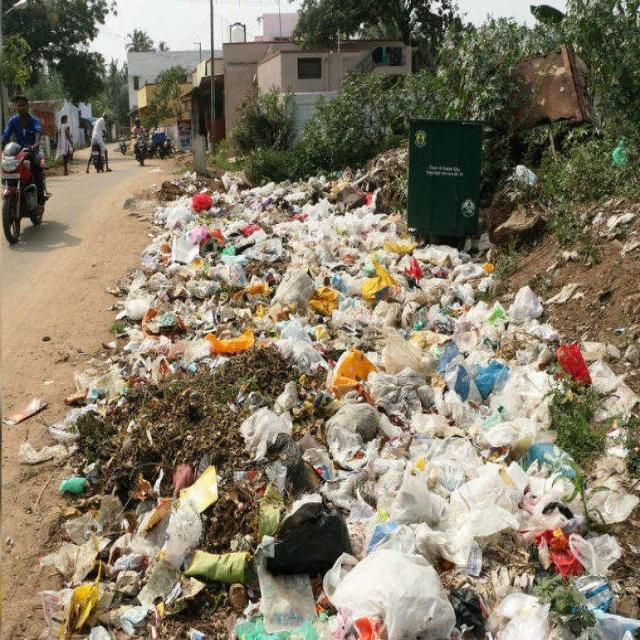garbage: (0, 110, 640, 640)
